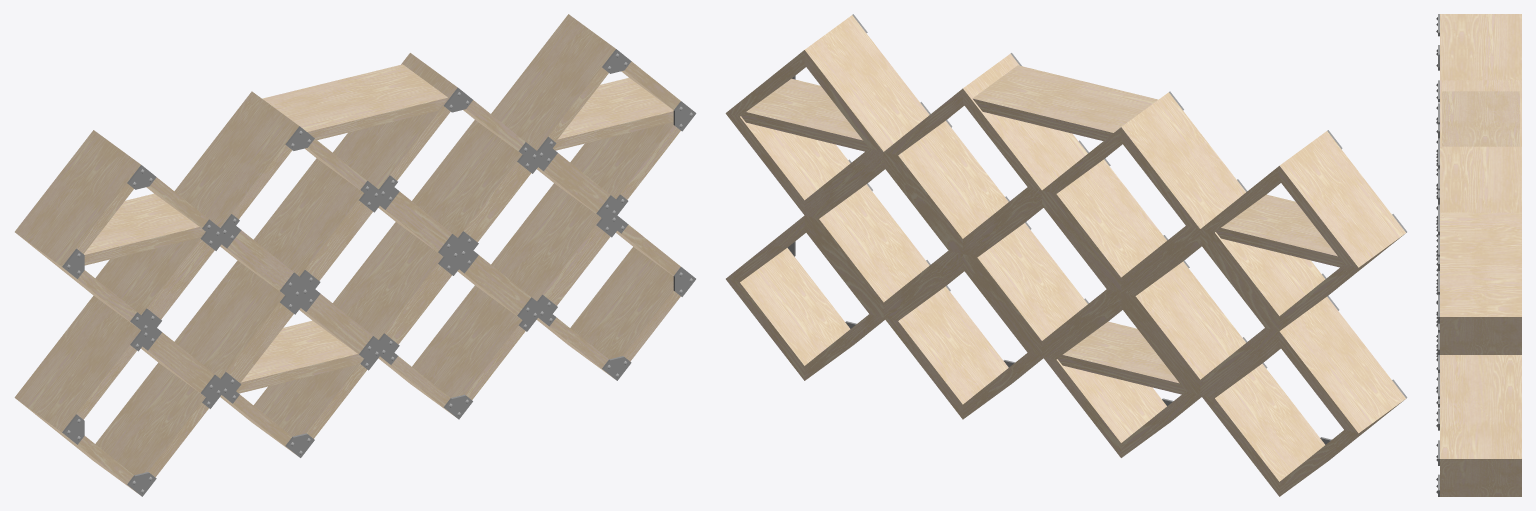
The model's file is shelf_018.fbx.
3 renders of one model, left to right at view 1: azimuth 30°, elevation 25°; view 2: azimuth 150°, elevation 25°; view 3: azimuth 270°, elevation 25°, orthographic. The views are drawn at different scales.
Parts seen in each view (by area): view 1: shelf_018; view 2: shelf_018; view 3: shelf_018.
Boxes of the visible parts, x1,y1,x2,y2 form: shelf_018: (14, 14, 696, 496); shelf_018: (725, 14, 1407, 496); shelf_018: (1436, 14, 1521, 496).
Size of the model in its own units: 299 by 40.89 by 150.
